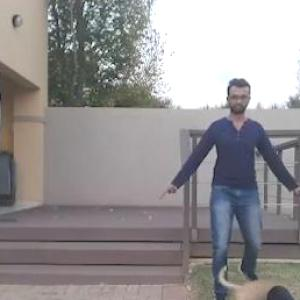land: (165, 80, 295, 299)
